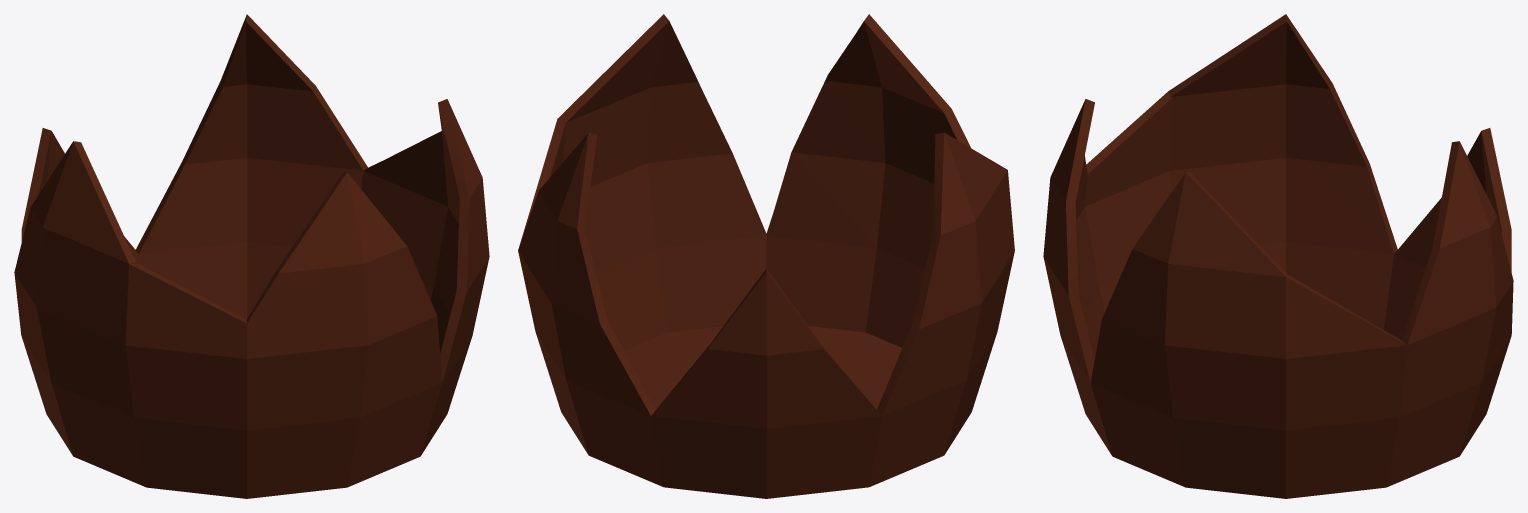
Rendered from pot2piece1.fbx.
The picture shows the model from 3 angles, left to right: view 1: azimuth 30°, elevation 25°; view 2: azimuth 150°, elevation 25°; view 3: azimuth 270°, elevation 25°; orthographic projection. The views are drawn at different scales.
Visible parts, largest first — view 1: pot2broken1; view 2: pot2broken1; view 3: pot2broken1.
Part boxes in pixels (x1,y1,x2,y2): pot2broken1: (14, 14, 489, 498); pot2broken1: (518, 14, 1014, 498); pot2broken1: (1043, 14, 1513, 498).
Size of the model in its own units: 47.11 by 33.8 by 45.64.
